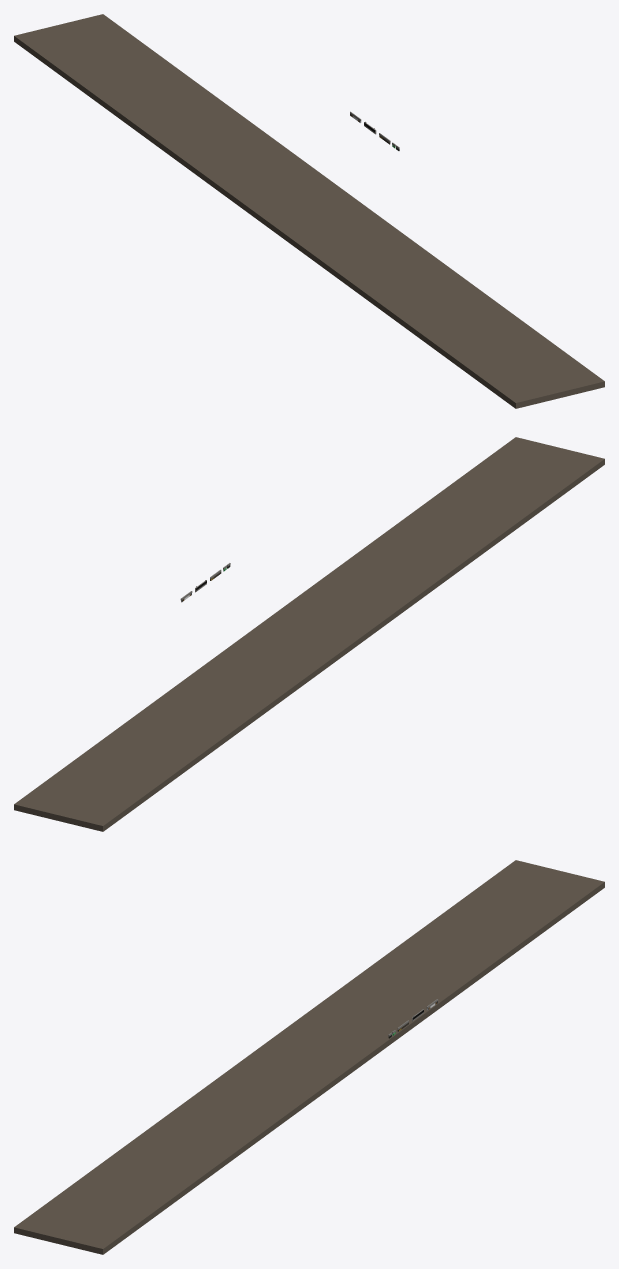
File: ceiling.fbx
3 views of the same model, one above another, from view 1: azimuth 30°, elevation 25°; view 2: azimuth 150°, elevation 25°; view 3: azimuth 330°, elevation 25° (orthographic).
Parts seen in each view (by area): view 1: Cube; view 2: Cube; view 3: Cube.
Boxes of the visible parts, <box> form: Cube: <box>14,14,604,408</box>; Cube: <box>14,437,604,831</box>; Cube: <box>14,860,604,1254</box>.
Bounding box in the file's own units: 4651 × 1756 × 31200.
15 materials, 7 textured.
